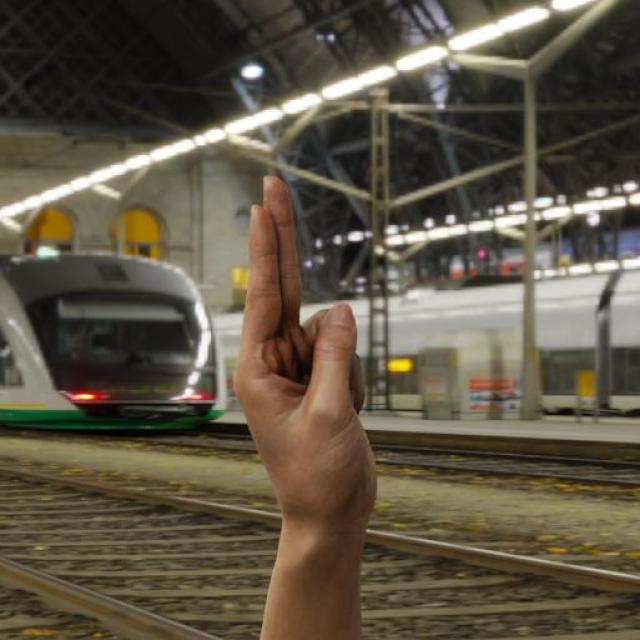U: (228, 173, 381, 524)
